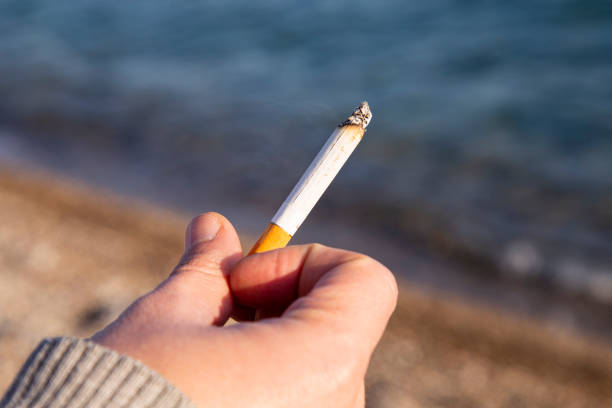cigarette: (250, 101, 376, 251)
